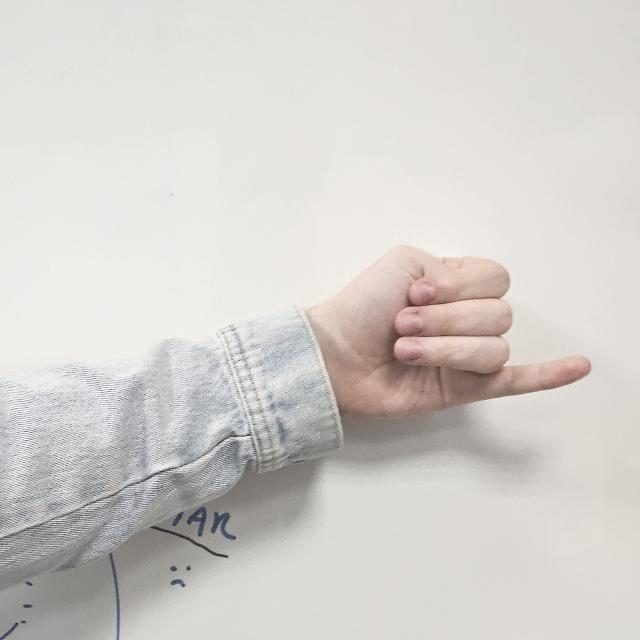Esquerda: (286, 198, 618, 450)
